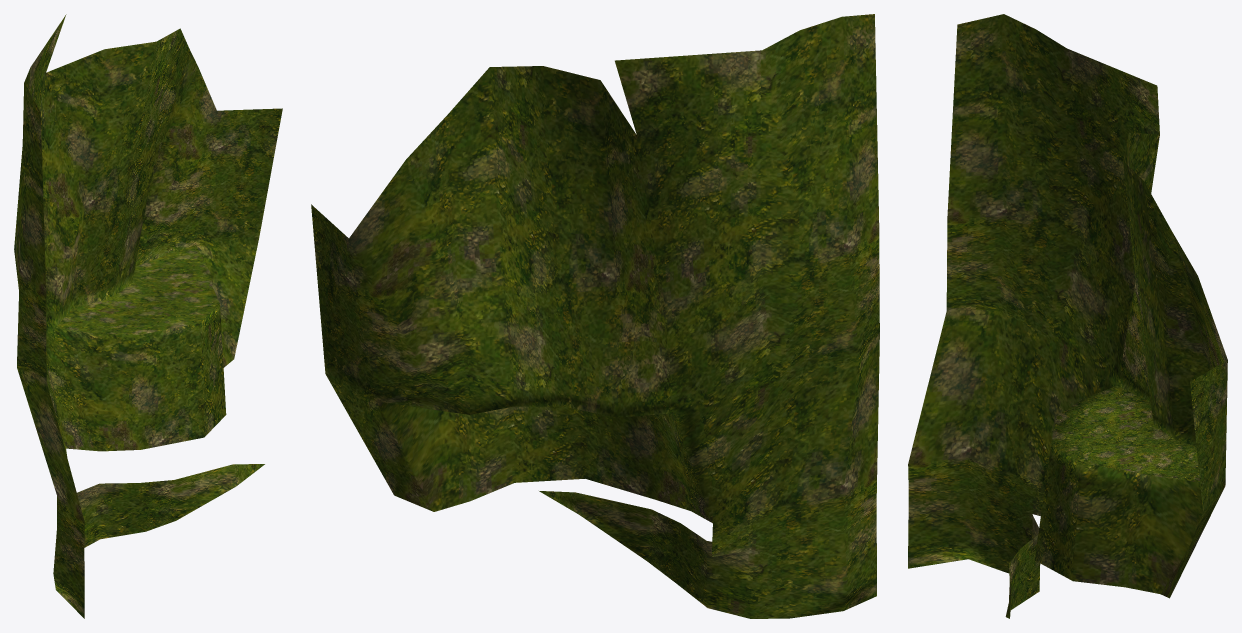
The model's file is OVERHILL_A_01_WALL_200.fbx.
3 views of the same model, side by side, from view 1: azimuth 30°, elevation 25°; view 2: azimuth 150°, elevation 25°; view 3: azimuth 270°, elevation 25° (orthographic). The views are drawn at different scales.
Visible parts, largest first — view 1: OVERHILL_A_01_WALL_200; view 2: OVERHILL_A_01_WALL_200; view 3: OVERHILL_A_01_WALL_200.
Boxes of the visible parts, box(x1,y1,x2,y2) form: OVERHILL_A_01_WALL_200: box(14, 14, 282, 618); OVERHILL_A_01_WALL_200: box(311, 14, 879, 618); OVERHILL_A_01_WALL_200: box(908, 14, 1227, 618).
Bounding box in the file's own units: 84500 × 115279 × 61152.
Materials: 1 (1 with a texture image).
